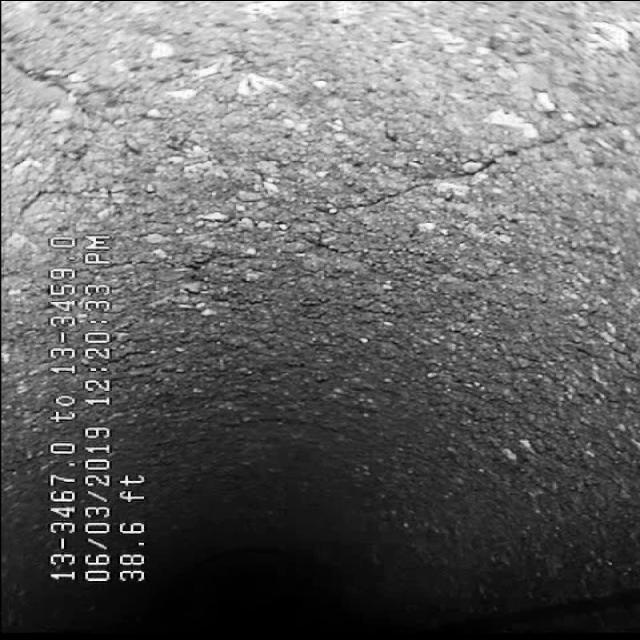Crack: (290, 122, 544, 240)
